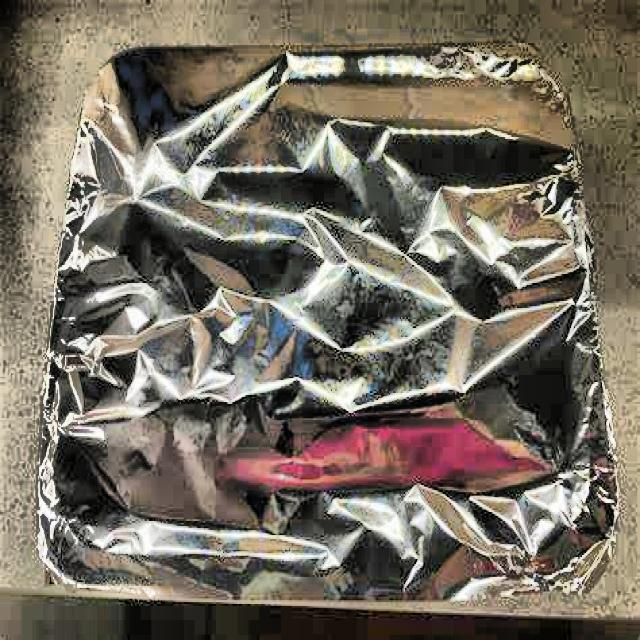Foil: (41, 30, 621, 612)
